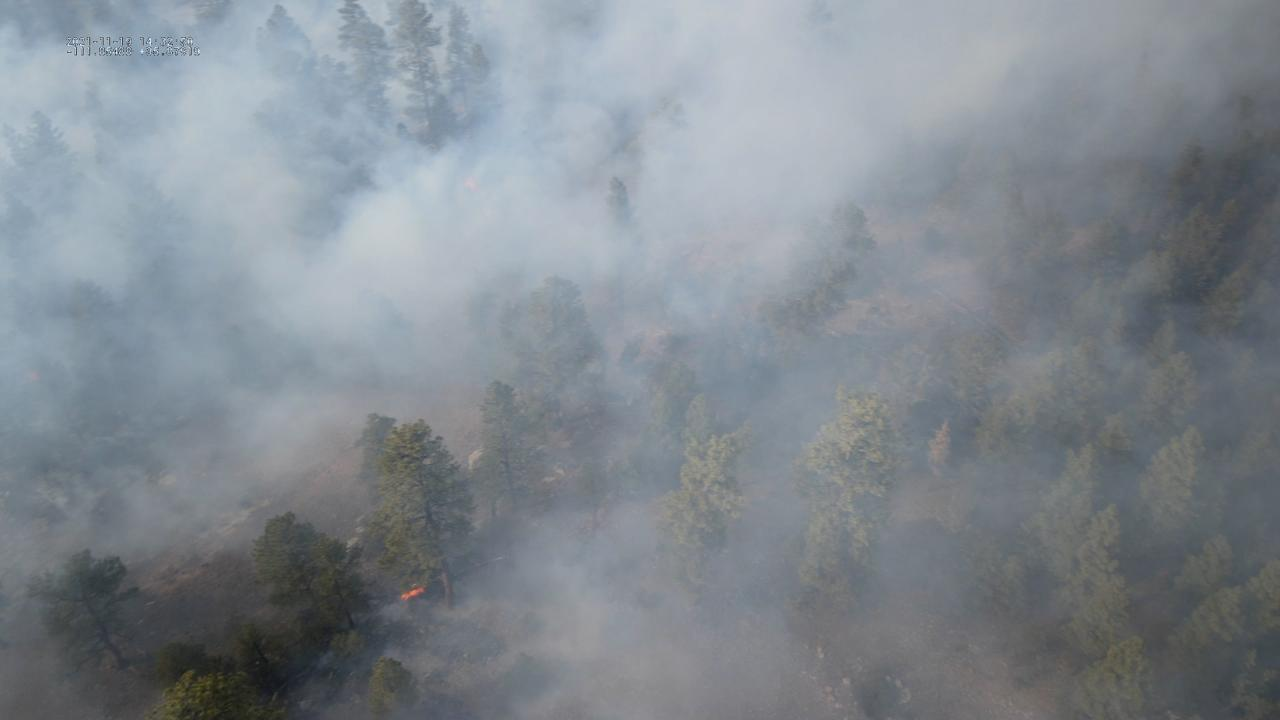fire: (398, 586, 425, 603)
smoke: (0, 0, 1280, 720)
